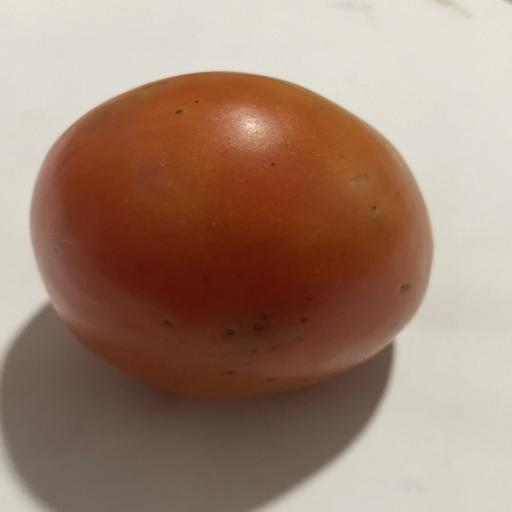ripe: (31, 72, 432, 397)
